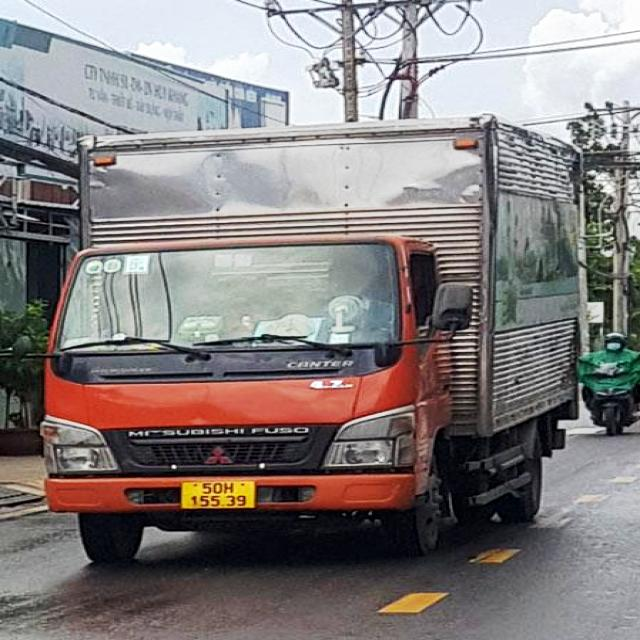license_plate: (185, 479, 259, 511)
